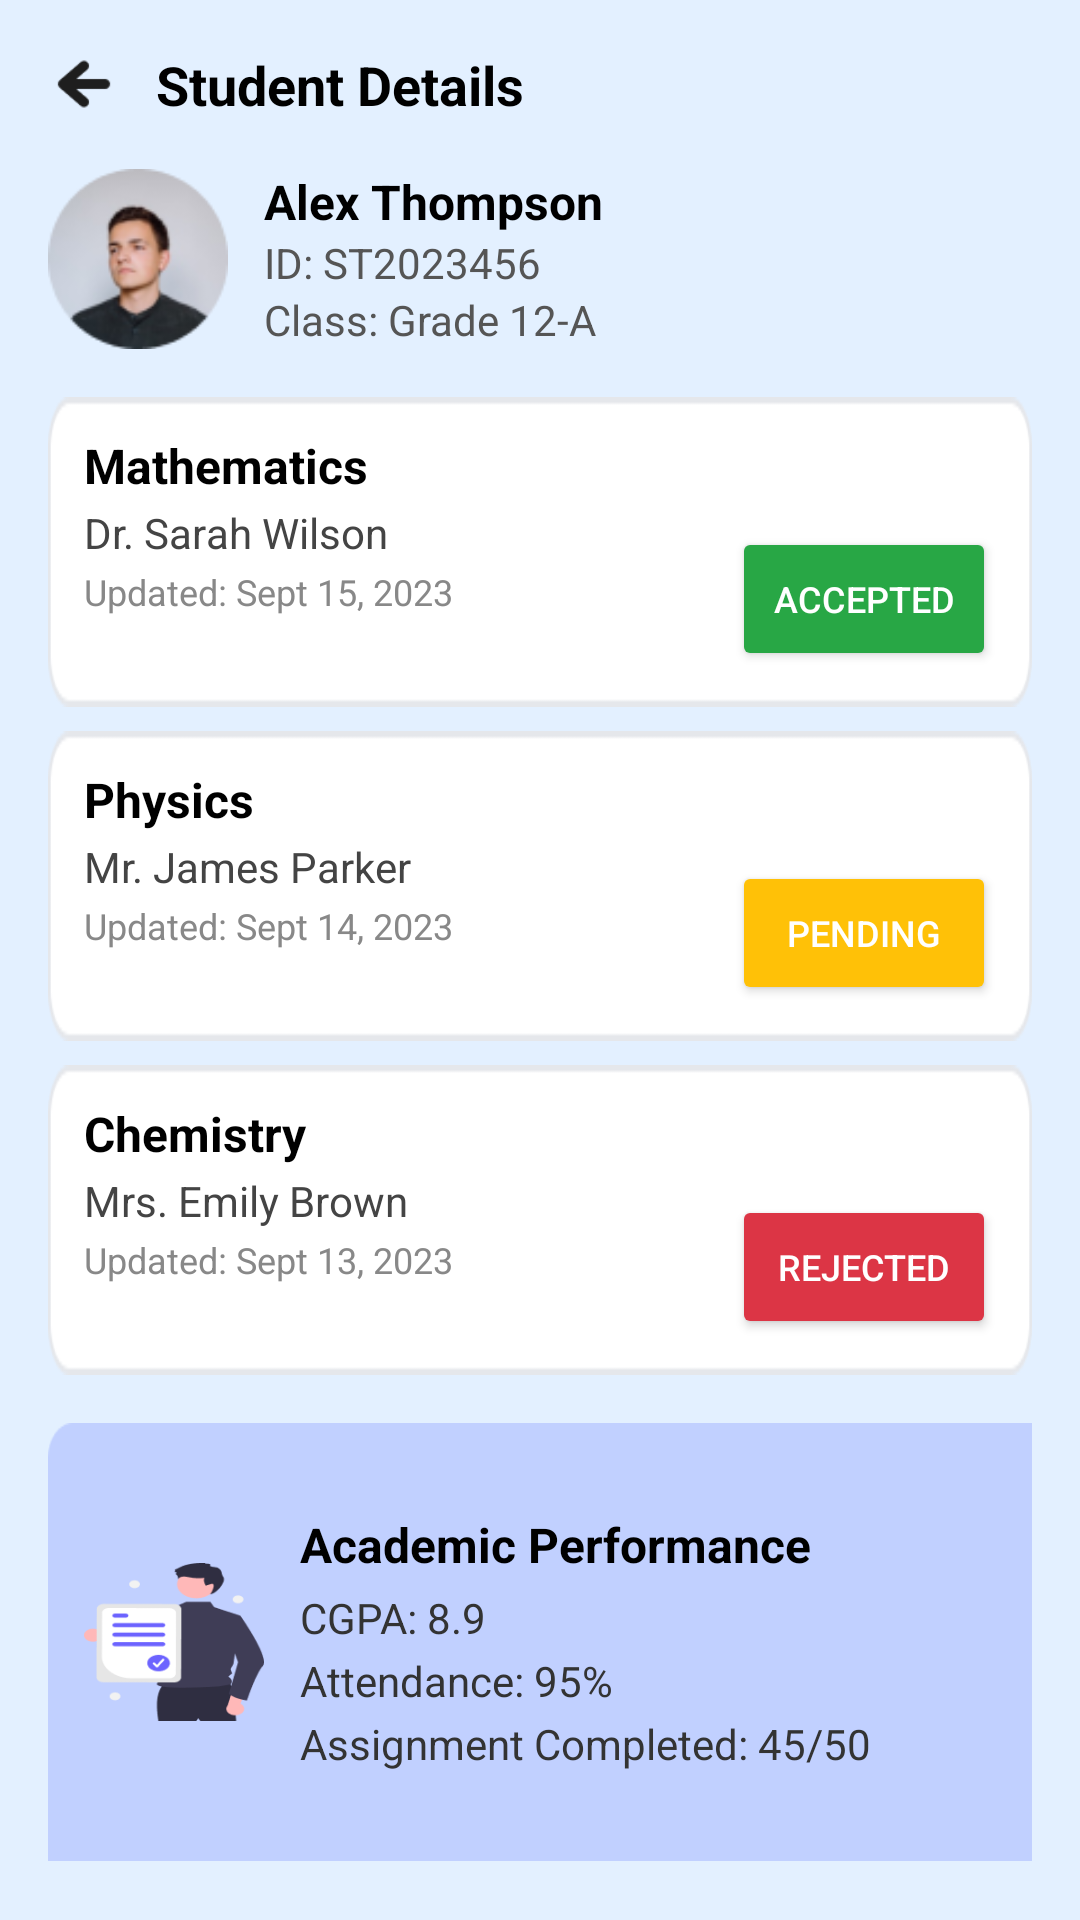

Where to tap for icons on this 1080 x 1920 app screen, as [x,y]:
Back: [84,84]
Profile Picture: [138,259]
